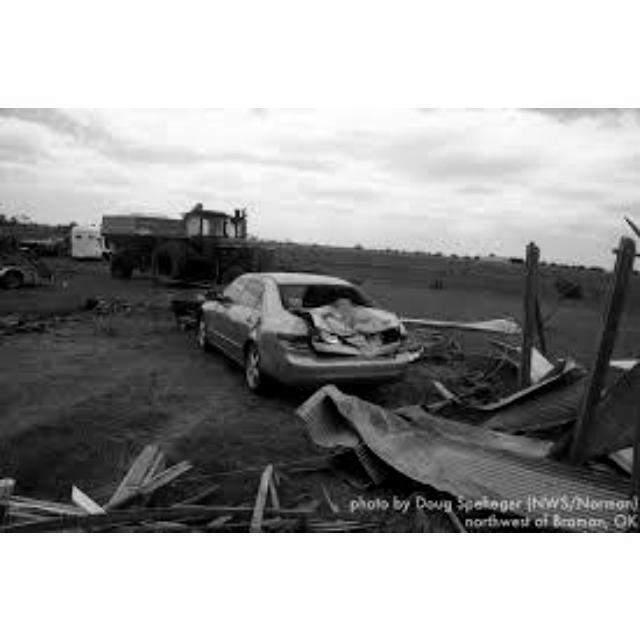Taillight-Damage: (282, 328, 316, 346), (386, 324, 411, 347)
boot-dent: (299, 303, 382, 354)
